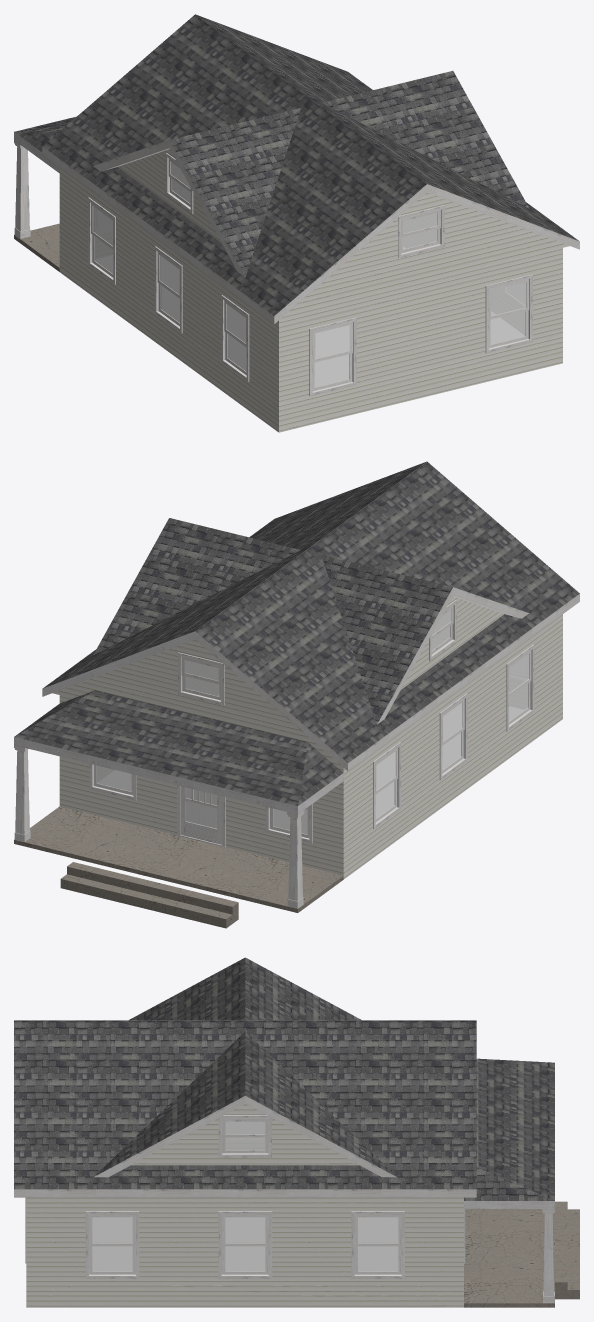
Rendered from smallHouse.glb.
3 renders of one model, top to bottom at view 1: azimuth 30°, elevation 25°; view 2: azimuth 150°, elevation 25°; view 3: azimuth 270°, elevation 25°, orthographic.
Visible parts, largest first — view 1: Material2 (×5); view 2: Material2 (×5); view 3: Material2 (×5).
Boxes of the visible parts, left/top/right/bottom form: Material2 (×5): left=14, top=14, right=579, bottom=432; Material2 (×5): left=14, top=461, right=579, bottom=928; Material2 (×5): left=14, top=957, right=579, bottom=1307.
Bounding box in the file's own units: 7.46 × 5.58 × 12.
8 materials, 4 textured.
